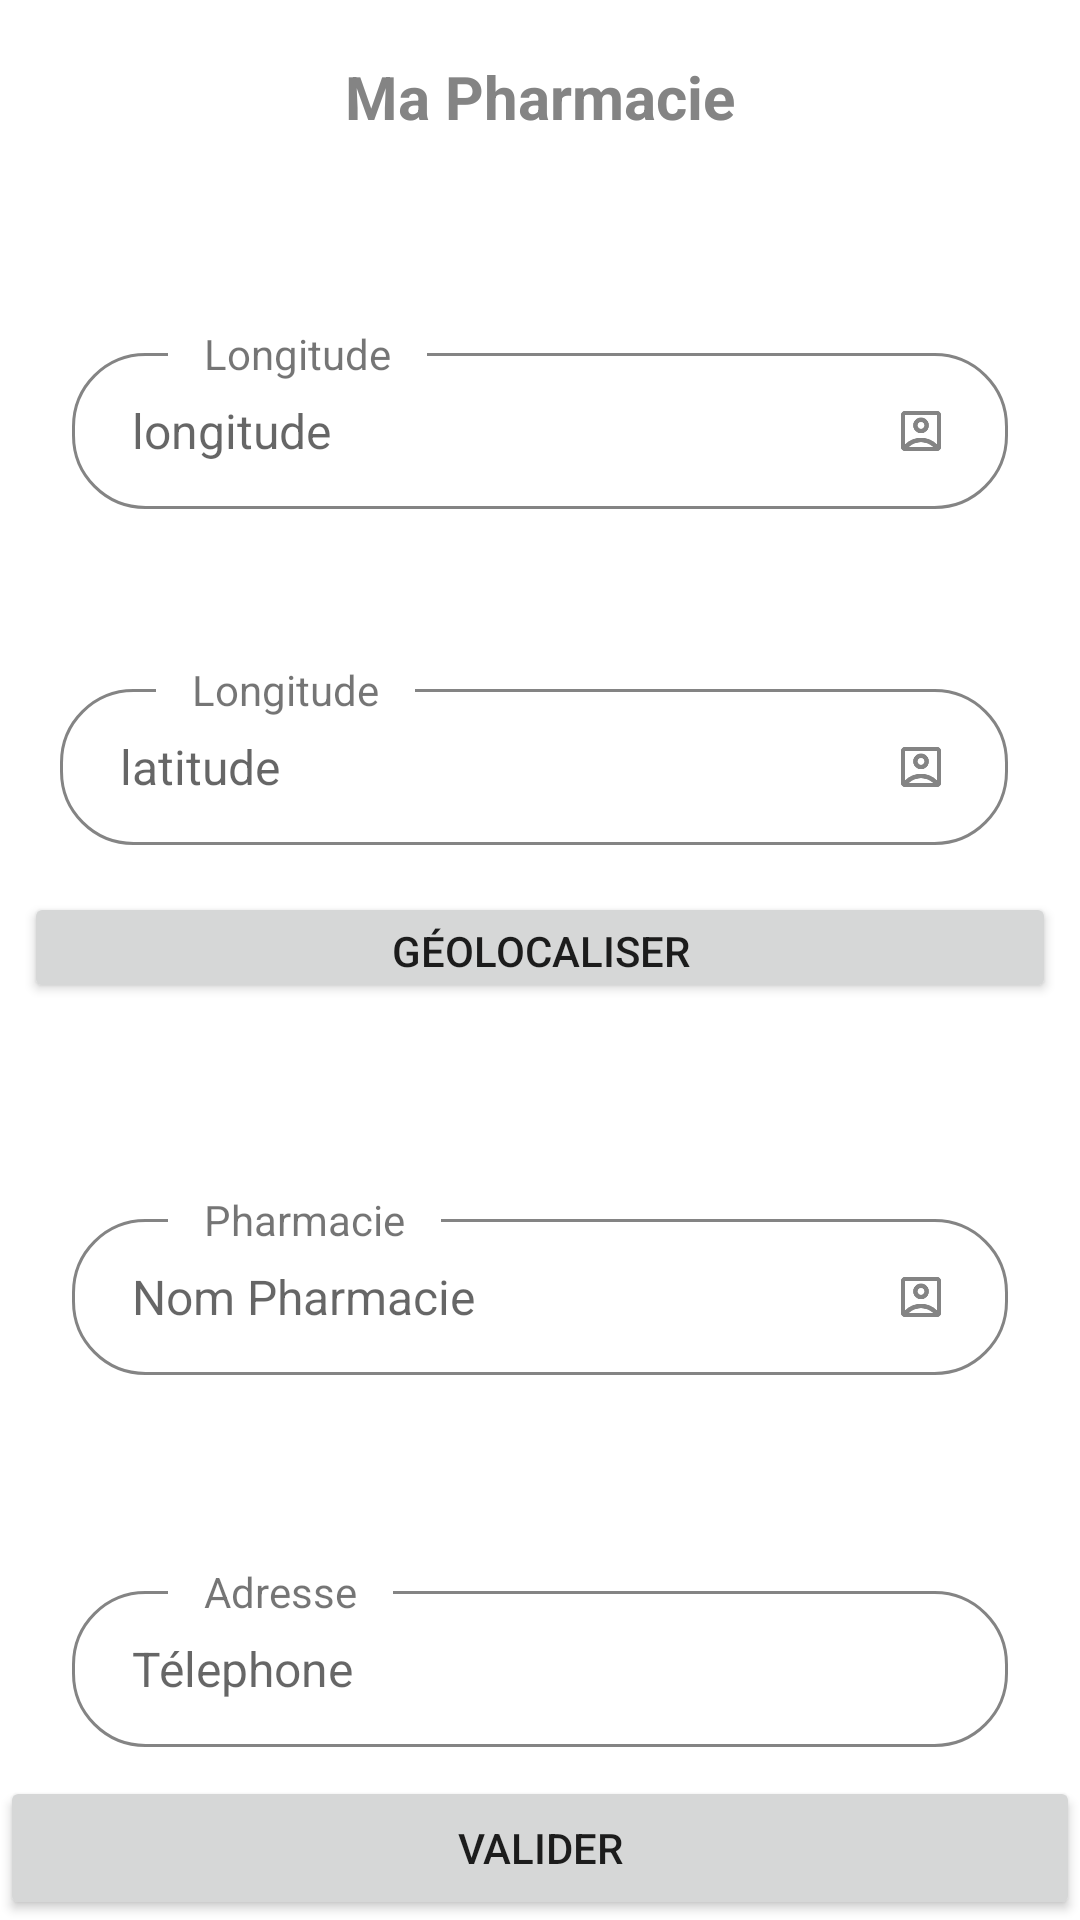

Icons on this 1080*1920 Android screen, each with its box as {"x1": x1, "y1": y1, "x2": x2, "y2": y2}:
user: {"x1": 901, "y1": 411, "x2": 941, "y2": 451}, {"x1": 901, "y1": 747, "x2": 941, "y2": 787}, {"x1": 901, "y1": 1277, "x2": 941, "y2": 1317}
